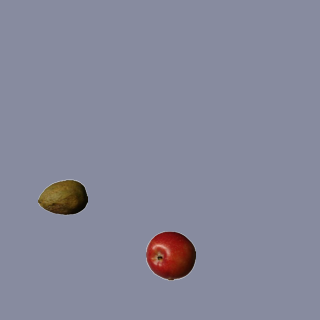Apple Braeburn: (145, 230, 195, 280)
Papaya: (37, 172, 87, 222)
